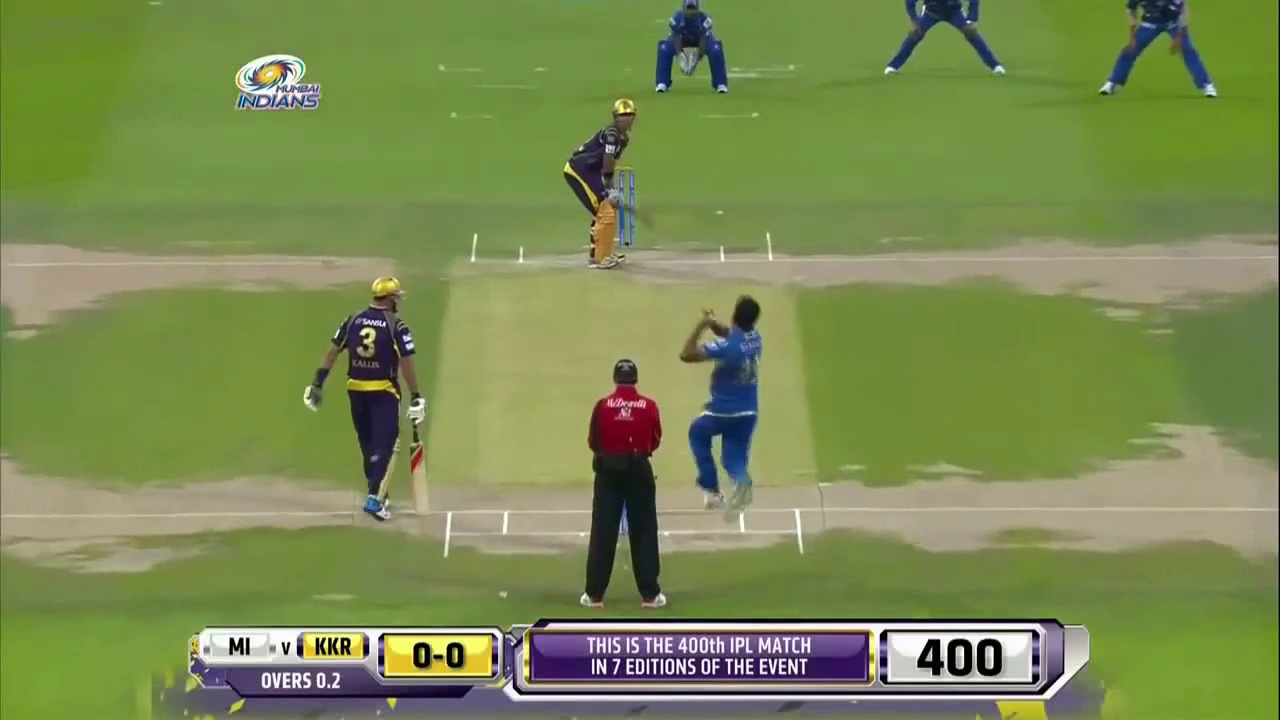bat: (409, 425, 432, 517)
